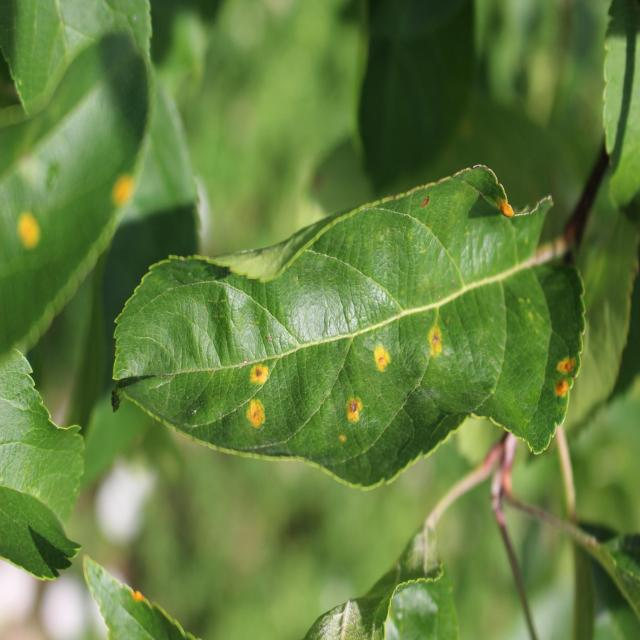Rust: (414, 305, 460, 372), (235, 394, 288, 449), (472, 182, 528, 222), (535, 378, 589, 418), (363, 334, 405, 378), (231, 360, 288, 390), (338, 388, 369, 432), (544, 351, 587, 376)
